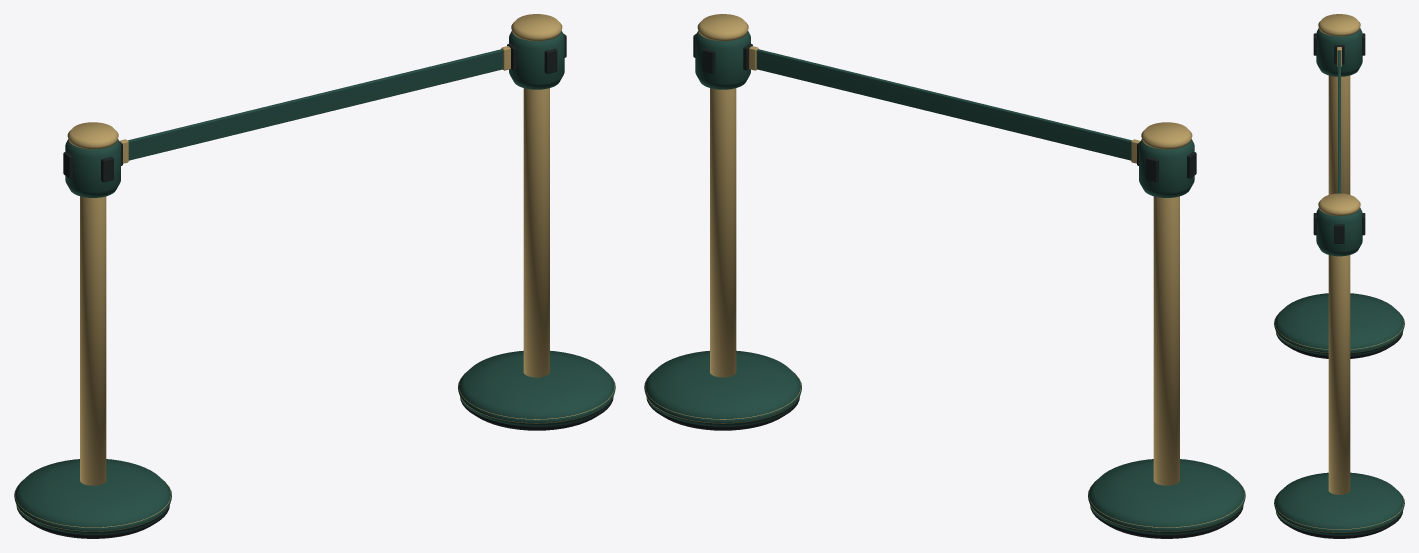
File: mall-queue-short.glb
3 views of the same model, side by side, from view 1: azimuth 30°, elevation 25°; view 2: azimuth 150°, elevation 25°; view 3: azimuth 270°, elevation 25° (orthographic). The views are drawn at different scales.
Parts seen in each view (by area): view 1: MODULE_Post_Left, MODULE_Post_Right, MODULE_Belt; view 2: MODULE_Post_Left, MODULE_Post_Right, MODULE_Belt; view 3: MODULE_Post_Right, MODULE_Post_Left, MODULE_Belt.
Part boxes in pixels (x1,y1,x2,y2): MODULE_Post_Left: (14,122,171,538); MODULE_Post_Right: (458,14,615,430); MODULE_Belt: (119,46,510,163); MODULE_Post_Left: (1088,122,1245,538); MODULE_Post_Right: (644,14,801,430); MODULE_Belt: (749,46,1140,163); MODULE_Post_Right: (1274,193,1404,538); MODULE_Post_Left: (1274,14,1404,358); MODULE_Belt: (1337,47,1341,193).
Size of the model in its own units: 1.57 by 0.976 by 0.37.
